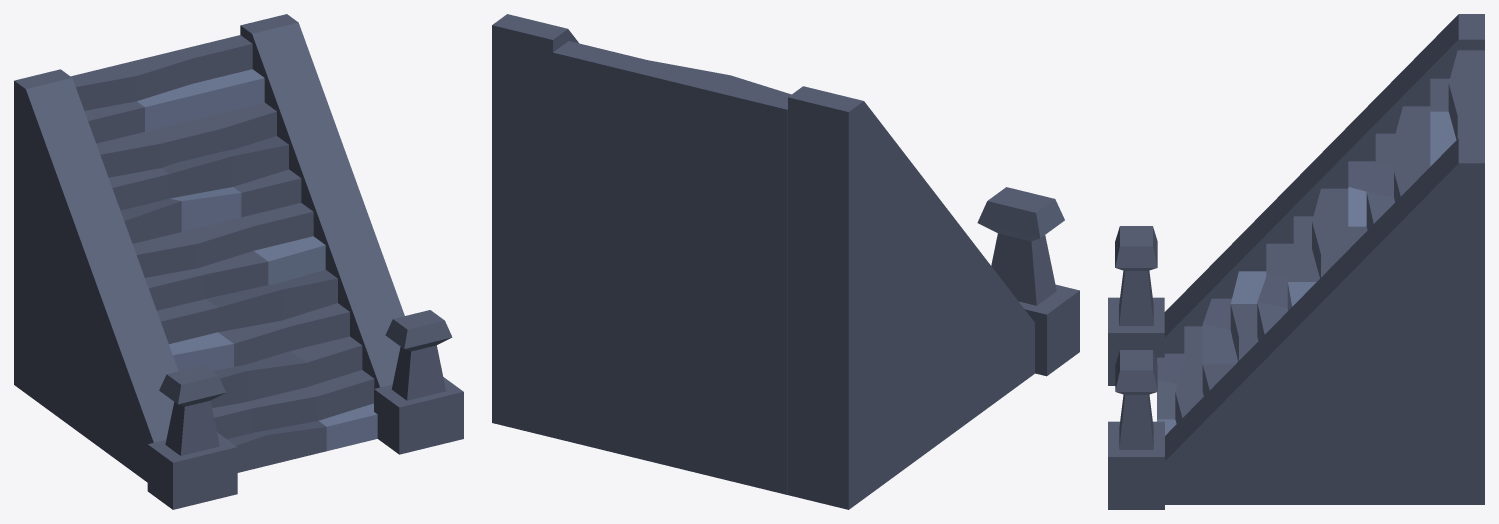
File: stairs.fbx
3 views of the same model, side by side, from view 1: azimuth 30°, elevation 25°; view 2: azimuth 150°, elevation 25°; view 3: azimuth 270°, elevation 25° (orthographic). The views are drawn at different scales.
Visible parts, largest first — view 1: stairs.003; view 2: stairs.003; view 3: stairs.003.
Boxes of the visible parts, left/top/right/bottom form: stairs.003: left=14, top=14, right=463, bottom=509; stairs.003: left=492, top=14, right=1079, bottom=509; stairs.003: left=1108, top=14, right=1484, bottom=509.
Bounding box in the file's own units: 100 × 100 × 100.
